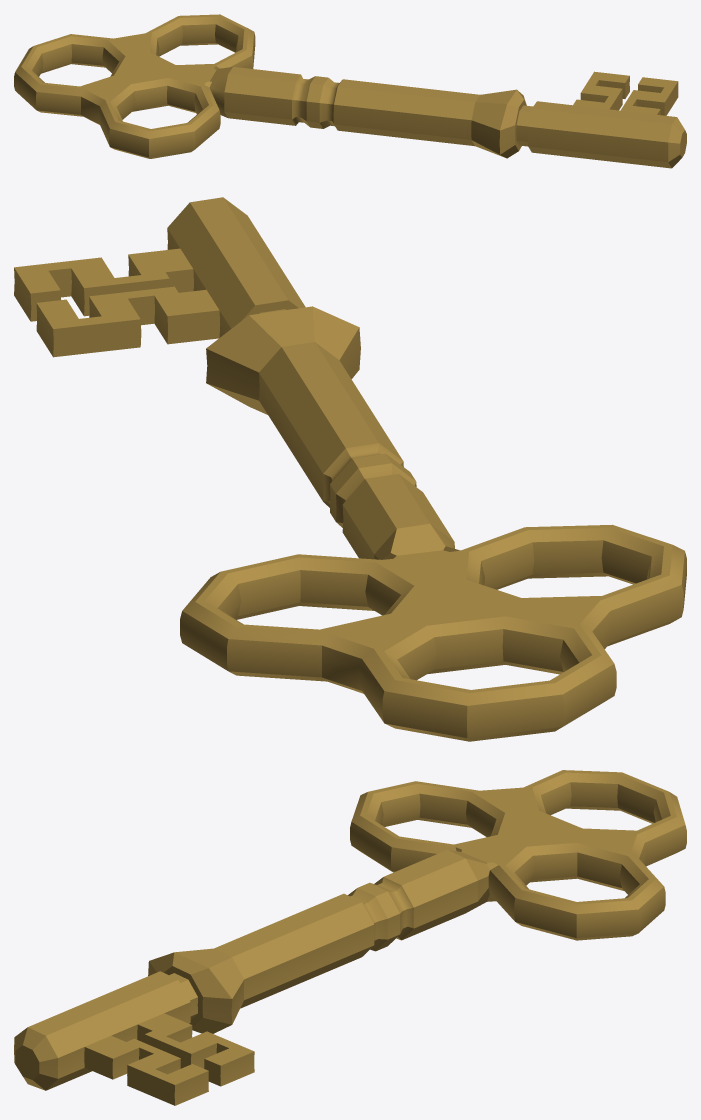
File: key-mesh.fbx
3 renders of one model, top to bottom at view 1: azimuth 30°, elevation 25°; view 2: azimuth 150°, elevation 25°; view 3: azimuth 270°, elevation 25°, orthographic. The views are drawn at different scales.
Visible parts, largest first — view 1: key1; view 2: key1; view 3: key1.
Boxes of the visible parts, x1,y1,x2,y2 form: key1: (14, 14, 686, 168); key1: (14, 197, 686, 741); key1: (14, 770, 686, 1105).
Size of the model in its own units: 1.92 by 0.2021 by 1.75.
